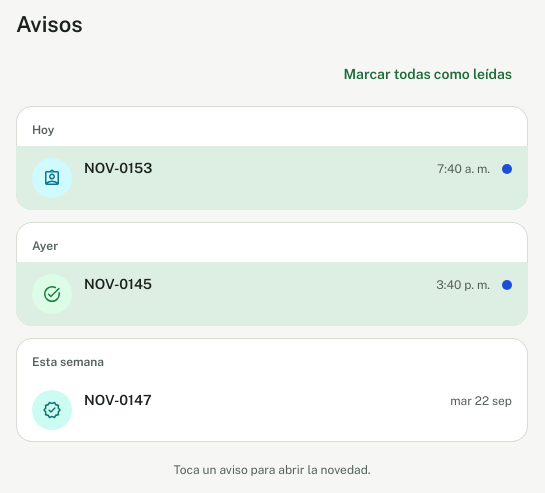
Pantalla 10 · Avisos (RF-30 / CU-30) › RF-30: «Marcar todas como leídas» las marca de una vez y desaparece
The image size is (545, 493).
Click the button "Marcar todas como leídas": click(428, 74) [328,54,528,94]
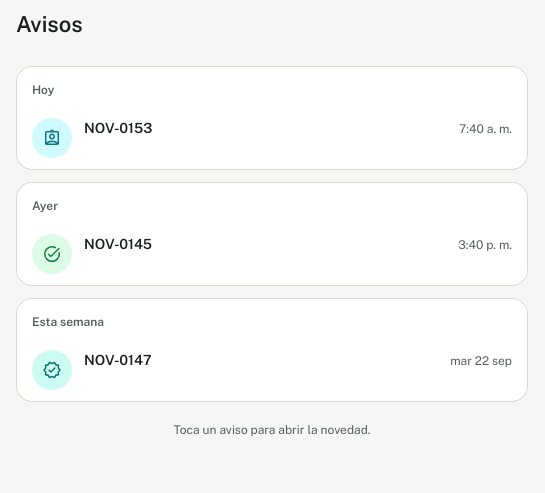
Expected: the button "Sin leer" is not shown
Now the button "Marcar todas como leídas" is gone
